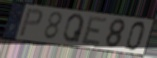0: (125, 20, 147, 52)
8: (42, 11, 64, 41), (105, 18, 126, 49)
E: (80, 15, 109, 47)
P: (18, 8, 44, 39)
Q: (62, 13, 86, 44)
